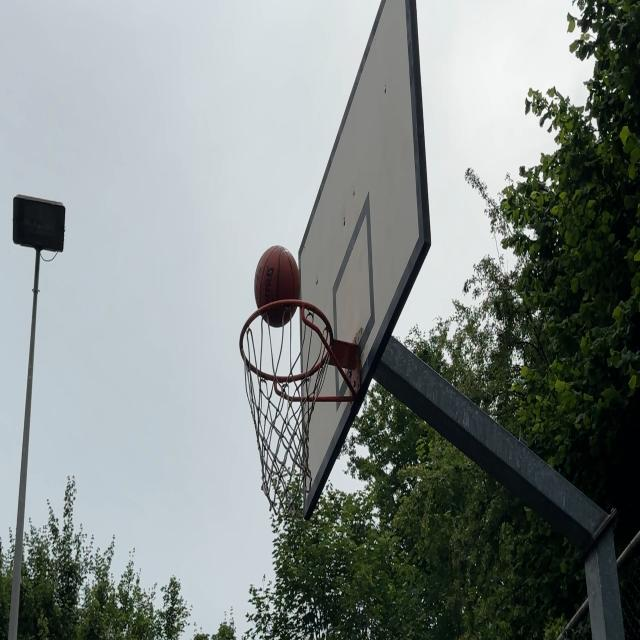rebound_hit: (254, 244, 300, 328)
